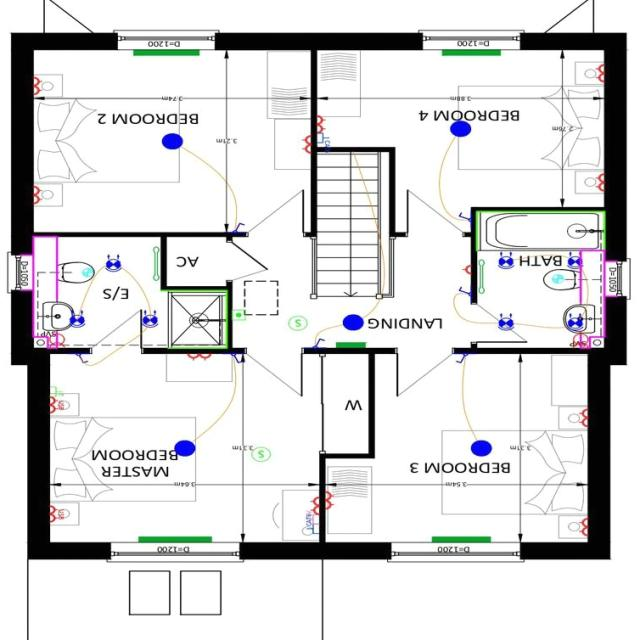Cat 6 Data Socket: (317, 134, 332, 155), (307, 516, 320, 535)
Ceiling Mounted Continuous Extract FanWith Boost Mode Activated By Light Switch: (83, 269, 94, 278), (554, 276, 564, 284)
Co-Ax TV Socket: (307, 511, 320, 525)
Double Socket: (188, 354, 212, 362), (580, 408, 589, 429), (311, 497, 321, 515), (580, 518, 589, 537), (596, 65, 605, 84), (303, 136, 312, 154), (317, 117, 327, 133), (597, 174, 605, 192), (327, 492, 335, 510), (35, 186, 43, 204), (35, 77, 42, 95)
Full Height Tiling: (476, 212, 607, 250), (162, 290, 228, 350)
Light Switch: (459, 287, 472, 297), (459, 212, 472, 222), (234, 224, 246, 234), (314, 339, 326, 349), (77, 355, 90, 364), (456, 355, 468, 364), (232, 355, 242, 364)
Low Energy Downlighter: (499, 253, 516, 270), (499, 314, 515, 332), (143, 310, 159, 328), (70, 310, 86, 328), (106, 256, 122, 274), (568, 253, 585, 269), (569, 314, 584, 331)
Low Energy Pendant Light: (451, 121, 472, 138), (175, 442, 197, 458), (471, 442, 493, 458), (344, 315, 365, 331), (163, 134, 184, 150)
Mains Wired Smoke Detector: (252, 448, 272, 463), (290, 317, 308, 332)
Programmable Room Thermostat: (234, 310, 246, 322)
Radiator: (134, 49, 200, 57), (139, 538, 213, 544), (442, 50, 502, 56), (432, 538, 492, 544), (337, 344, 367, 349)
Shaver Socket: (573, 331, 589, 349), (50, 331, 65, 349)
Single Socket: (463, 266, 472, 275)
USB Double Socket: (51, 506, 65, 524), (51, 398, 64, 414)
